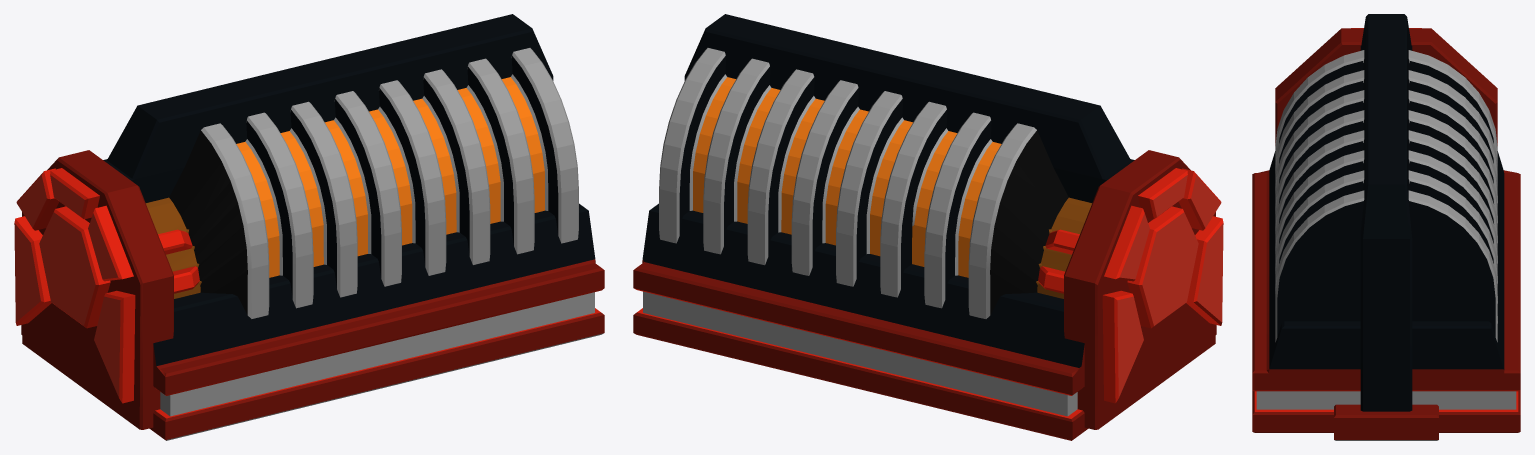
The model's file is Generateur.FBX.
3 views of the same model, side by side, from view 1: azimuth 30°, elevation 25°; view 2: azimuth 150°, elevation 25°; view 3: azimuth 270°, elevation 25° (orthographic). The views are drawn at different scales.
Visible parts, largest first — view 1: generator; view 2: generator; view 3: generator.
Boxes of the visible parts, x1,y1,x2,y2 form: generator: (14,14,604,440); generator: (633,14,1223,440); generator: (1252,14,1520,440).
Size of the model in its own units: 6.35 by 3.32 by 3.28.
